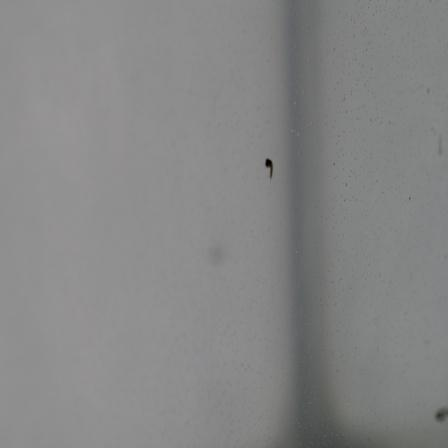Jentik-Nyamuk: (262, 154, 278, 185)
